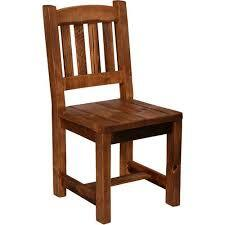chair: (38, 2, 189, 223)
